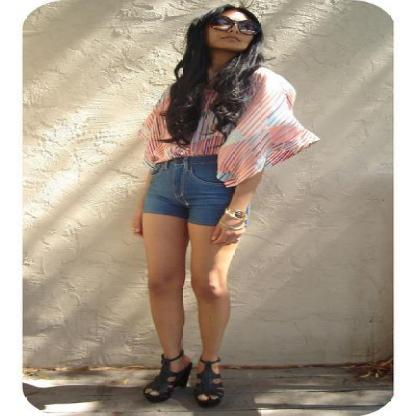shirt: (132, 67, 319, 187)
shoe: (144, 351, 222, 407)
shorts: (143, 151, 235, 226)
